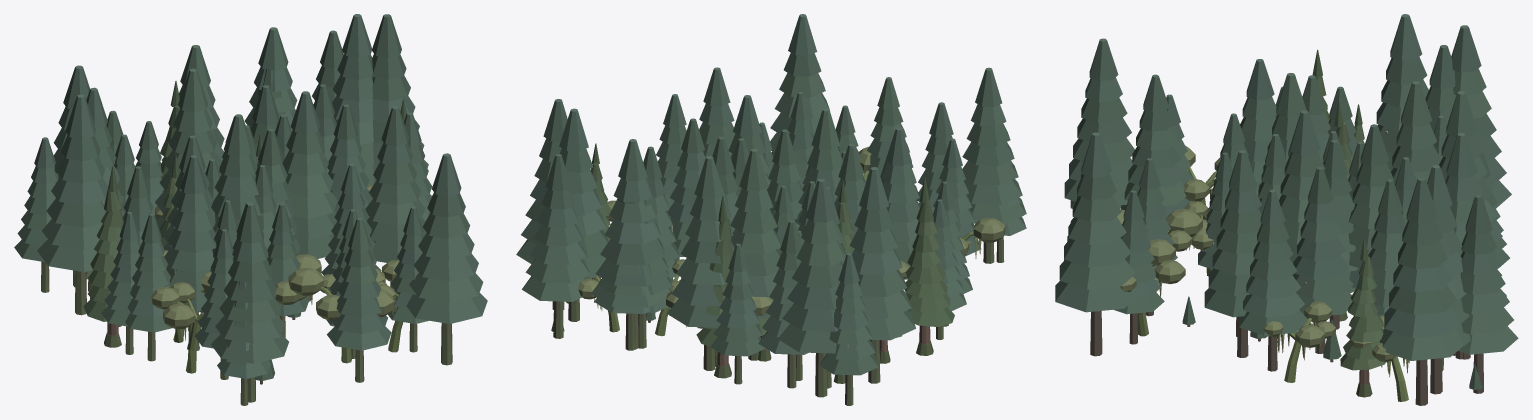
The model's file is Mist_Forest_1_3.fbx.
3 views of the same model, side by side, from view 1: azimuth 30°, elevation 25°; view 2: azimuth 150°, elevation 25°; view 3: azimuth 270°, elevation 25° (orthographic). The views are drawn at different scales.
Visible parts, largest first — view 1: Mist_Forest_1_3; view 2: Mist_Forest_1_3; view 3: Mist_Forest_1_3.
Boxes of the visible parts, left/top/right/bottom form: Mist_Forest_1_3: left=14, top=14, right=487, bottom=405; Mist_Forest_1_3: left=516, top=14, right=1026, bottom=405; Mist_Forest_1_3: left=1055, top=14, right=1518, bottom=405.
Bounding box in the file's own units: 45.81 × 24.95 × 44.83.
